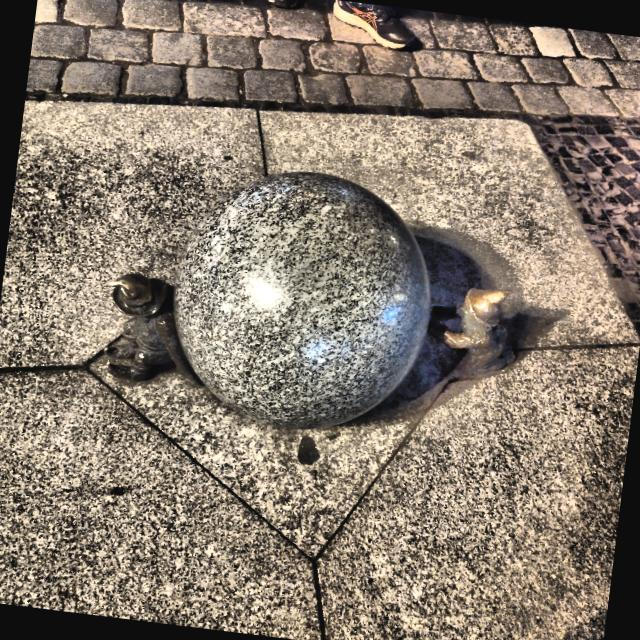Syzyfki: (88, 143, 540, 457)
